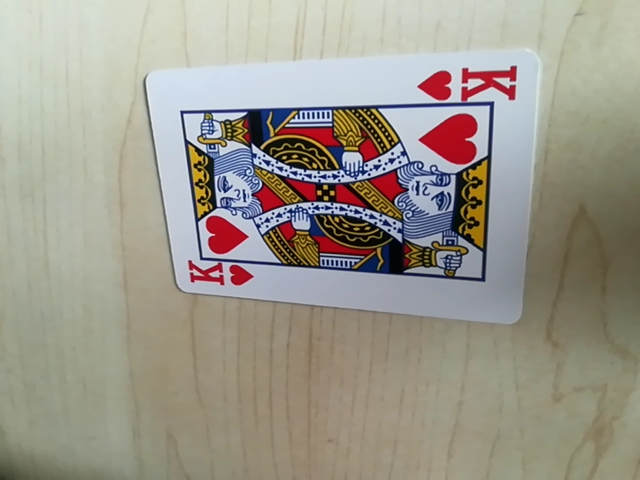hx k: (417, 59, 525, 108), (183, 260, 258, 293)
